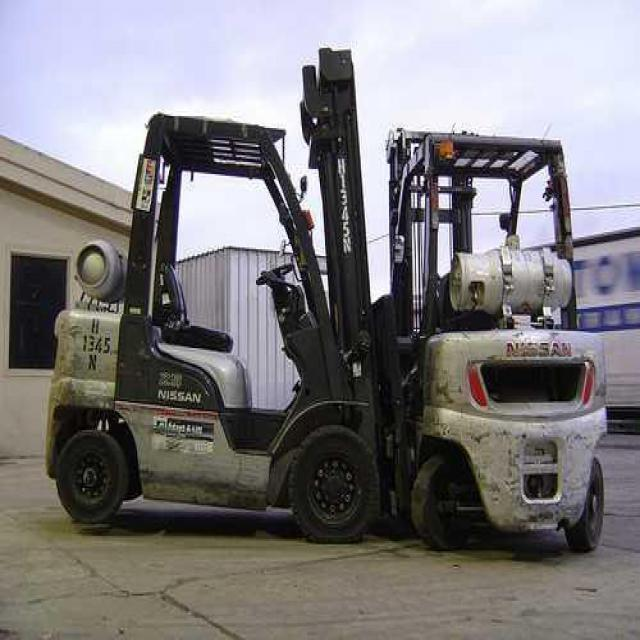forklift: (44, 48, 447, 539), (370, 125, 607, 549)
